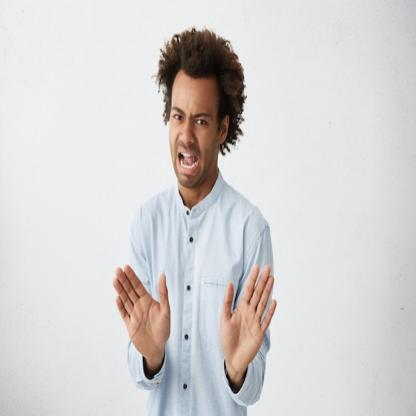stop: (109, 262, 174, 364), (221, 262, 278, 374)
